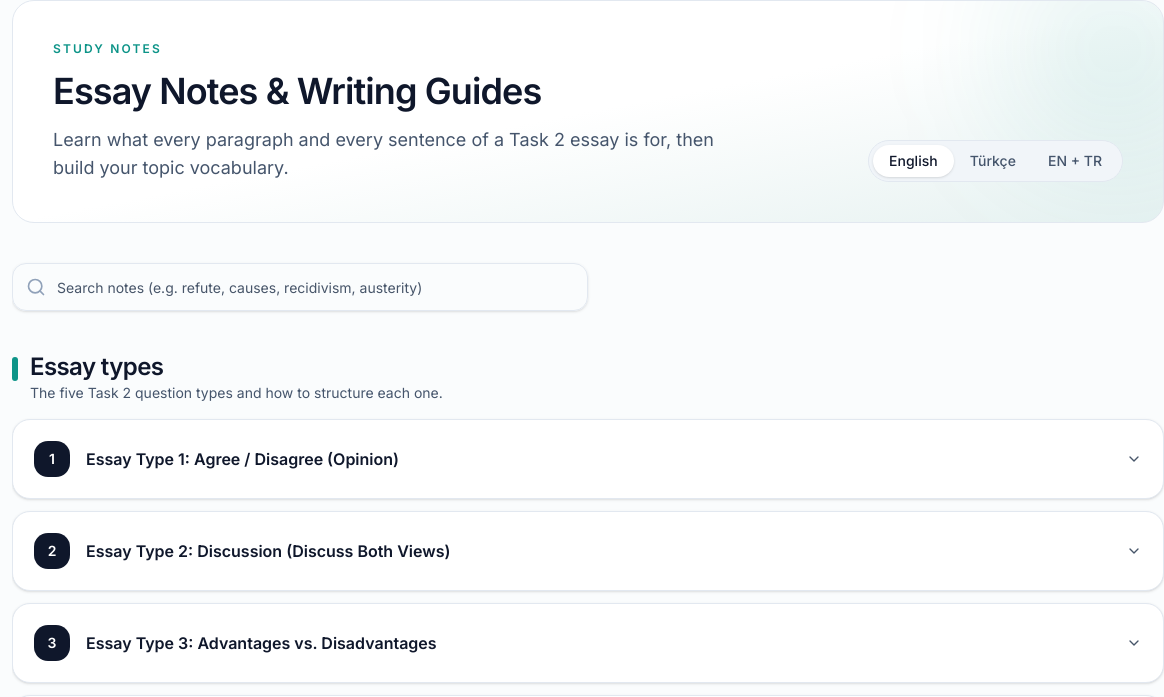
NotesBrowser › filters by search and shows an empty state
In the search field labelled "Search notes": (300, 287) [12,263,588,311], type "refute"
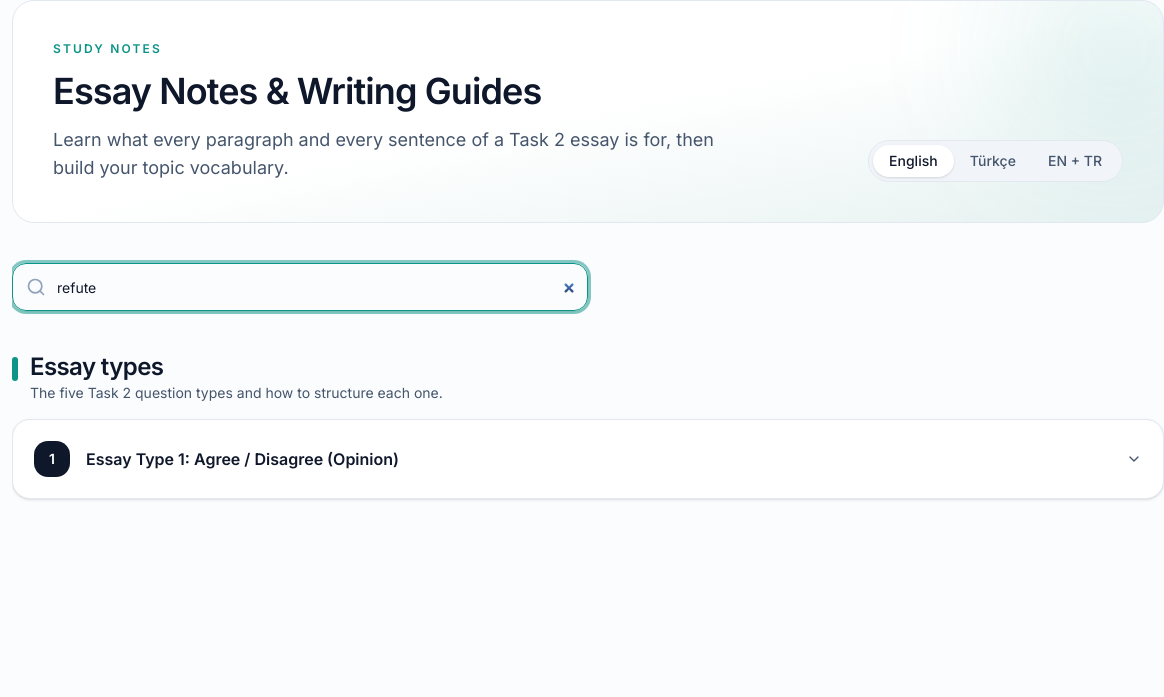
expect the number of buttons "1 Essay Type 1: Agree / Disagree (Opinion)" is 1: met, box [33,420,1143,498]
Replace the text in the search field named "Search notes" with "zzz": (300, 287) [12,263,588,311]
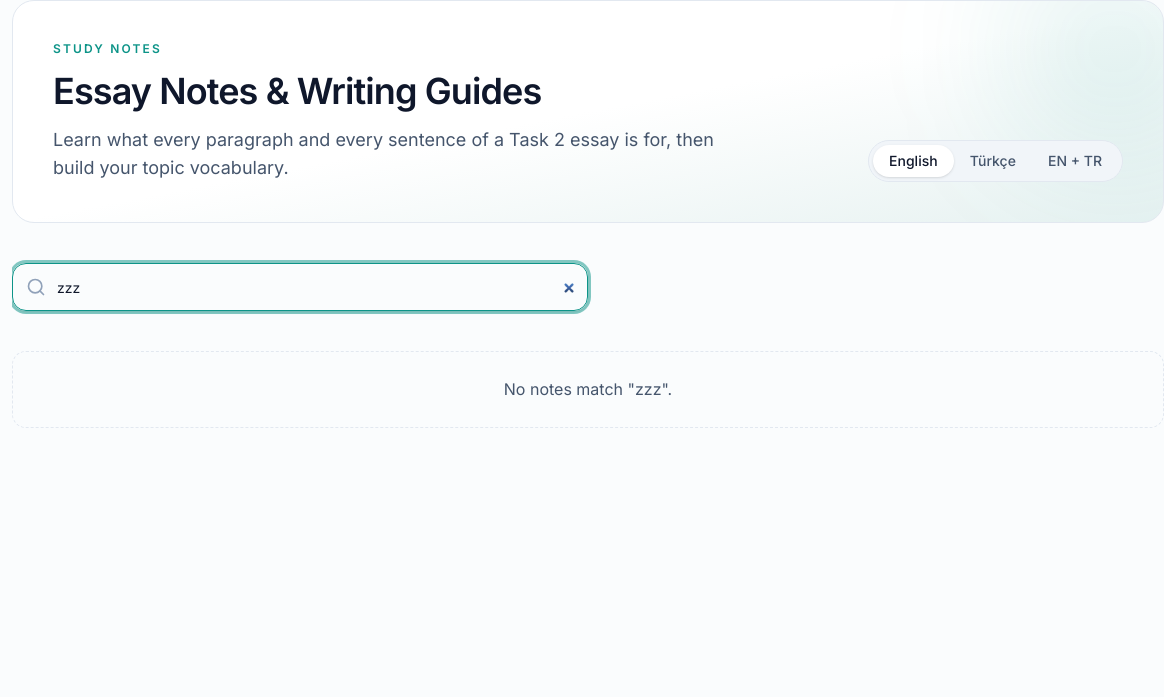
expect the text "No notes match \"zzz\"." is shown: met, box [12,351,1163,428]
